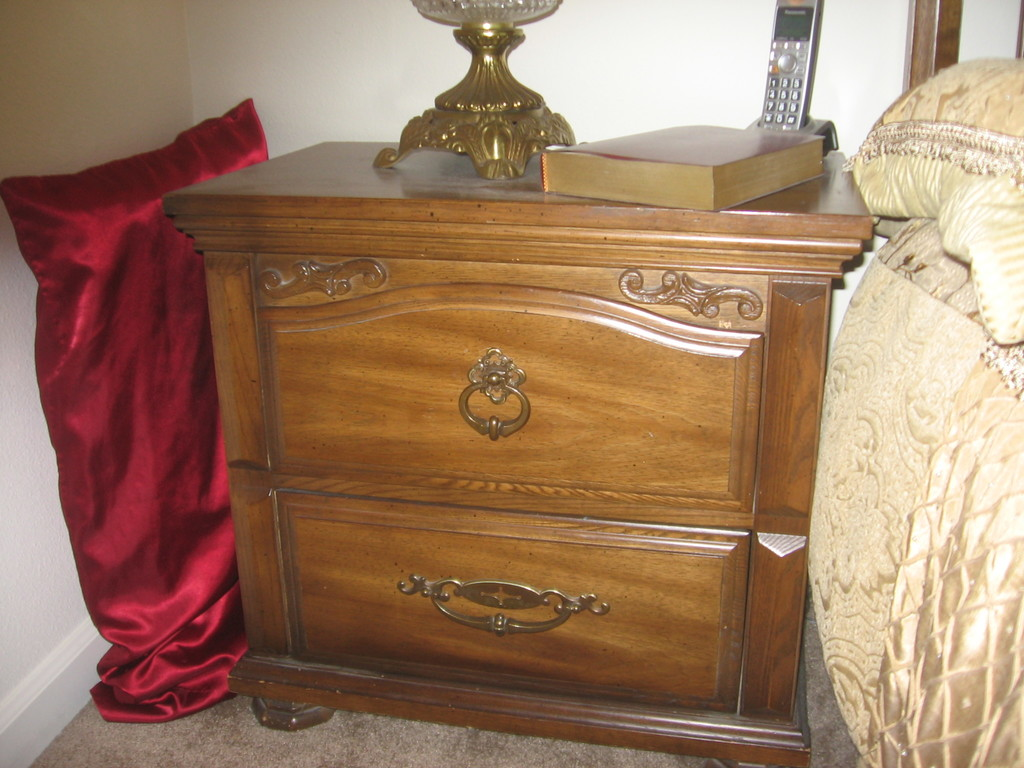cabinet door: (284, 478, 742, 719), (258, 319, 754, 511)
handle: (425, 578, 590, 642), (452, 372, 542, 439)
